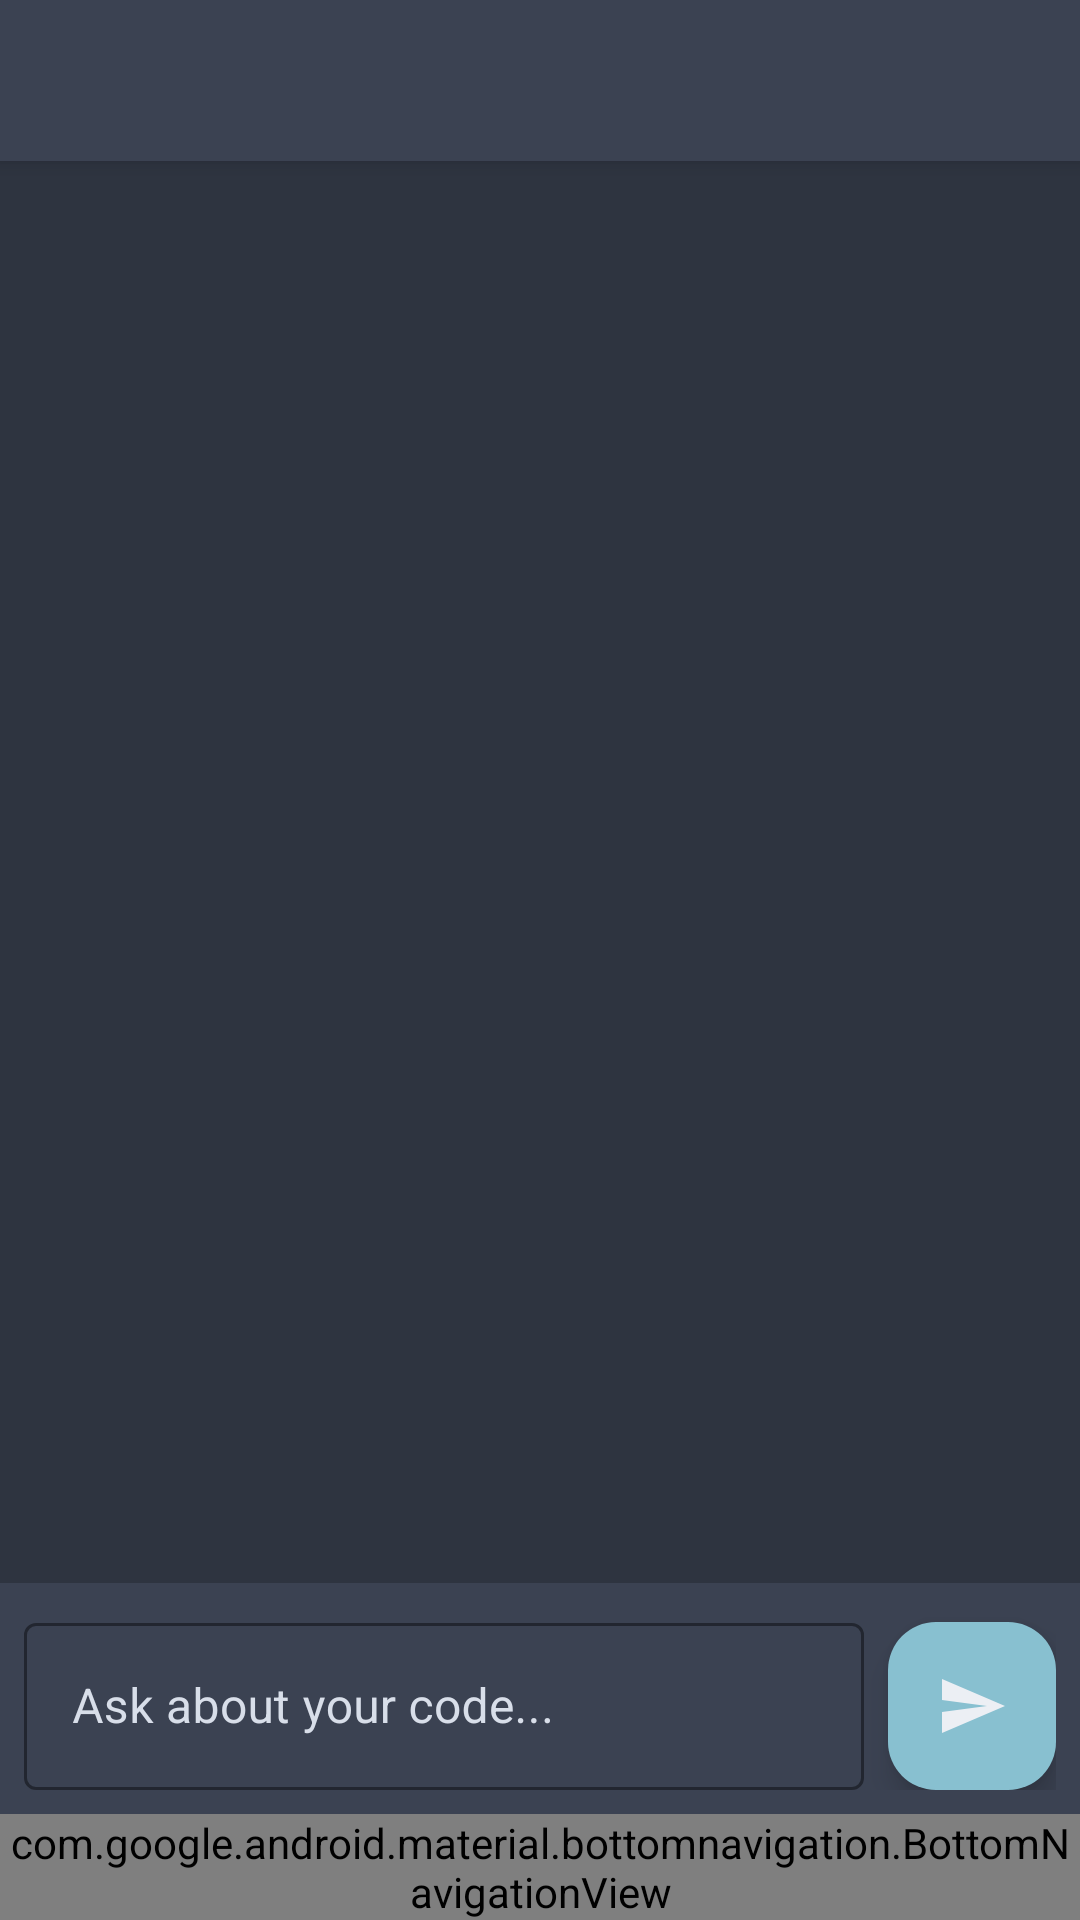

Locate icon controls on the screen. Image size 1080×1920, boxes as (left=x1, top=y1, right=x2, bottom=y2).
Send message: (left=888, top=1622, right=1056, bottom=1790)
